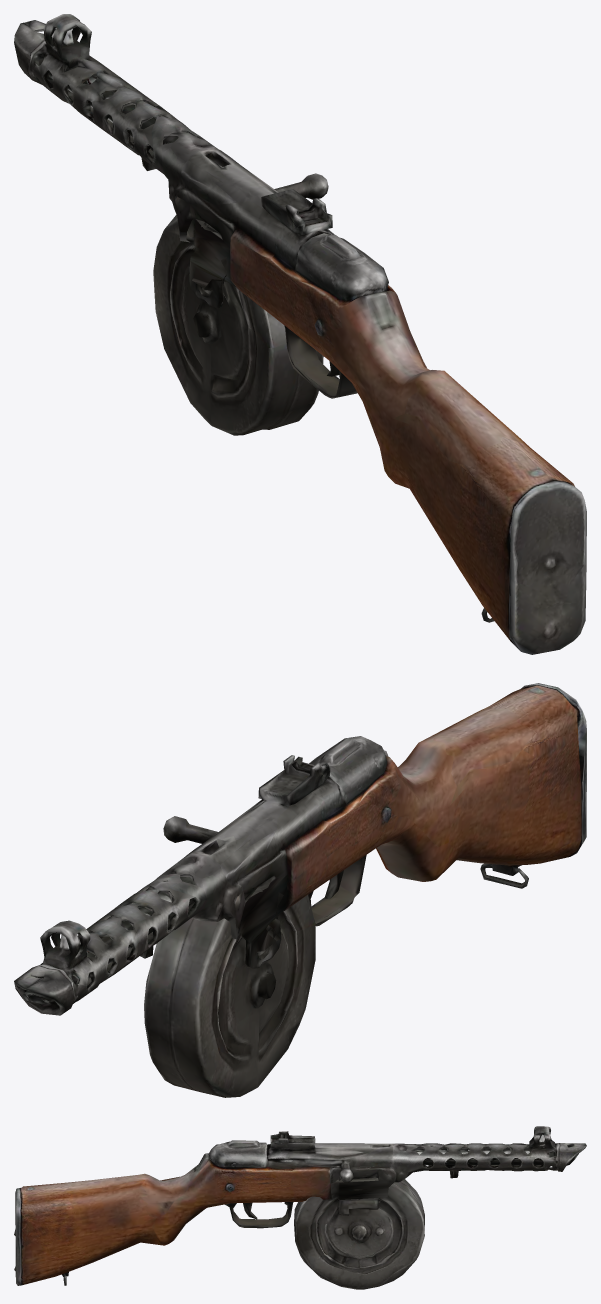
The model's file is w_ppsh41_fix.glb.
The picture shows the model from 3 angles, top to bottom: view 1: azimuth 30°, elevation 25°; view 2: azimuth 150°, elevation 25°; view 3: azimuth 270°, elevation 25°; orthographic projection. The views are drawn at different scales.
Parts seen in each view (by area): view 1: tripo_node_2b6a0fc4-18a8-4e43-9f25-469fcdb4777a; view 2: tripo_node_2b6a0fc4-18a8-4e43-9f25-469fcdb4777a; view 3: tripo_node_2b6a0fc4-18a8-4e43-9f25-469fcdb4777a.
Boxes of the visible parts, x1,y1,x2,y2 form: tripo_node_2b6a0fc4-18a8-4e43-9f25-469fcdb4777a: (14,14,586,654); tripo_node_2b6a0fc4-18a8-4e43-9f25-469fcdb4777a: (14,683,586,1097); tripo_node_2b6a0fc4-18a8-4e43-9f25-469fcdb4777a: (14,1126,586,1289).
Bounding box in the file's own units: 0.1285 × 0.293 × 0.9827.
1 material, 1 textured.
